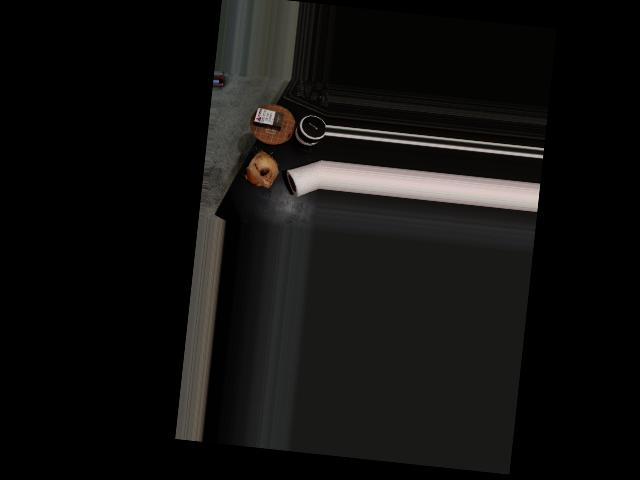onion: (241, 147, 281, 190)
